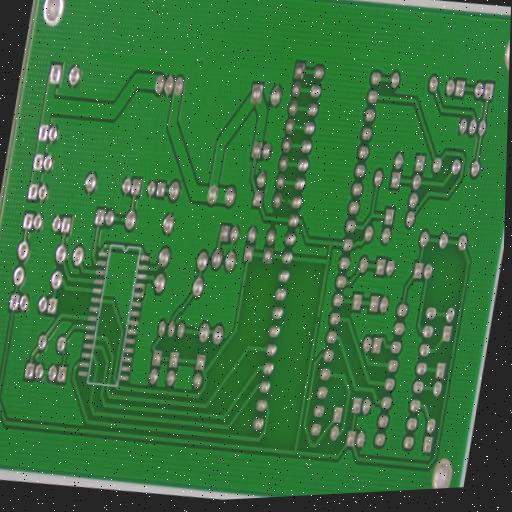open_circuit: (313, 312, 322, 326), (281, 194, 290, 208), (116, 213, 123, 225)
